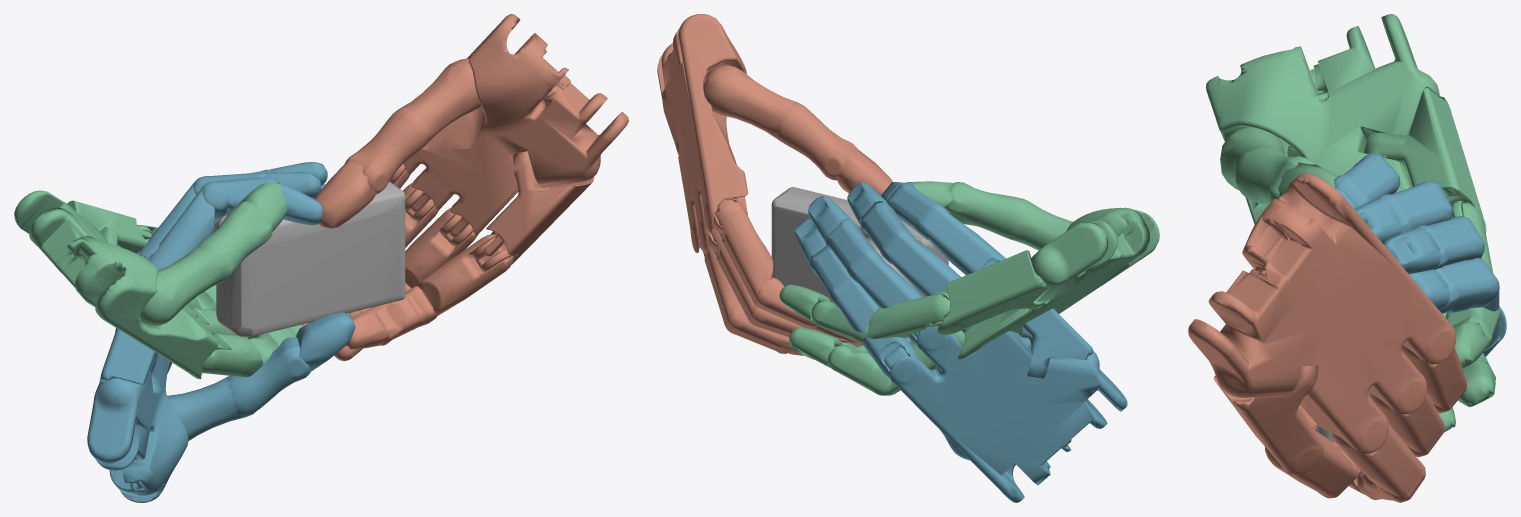
The picture shows the model from 3 angles, left to right: view 1: azimuth 30°, elevation 25°; view 2: azimuth 150°, elevation 25°; view 3: azimuth 270°, elevation 25°; orthographic projection. The views are drawn at different scales.
Size of the model in its own units: 0.3038 by 0.2216 by 0.1224.
